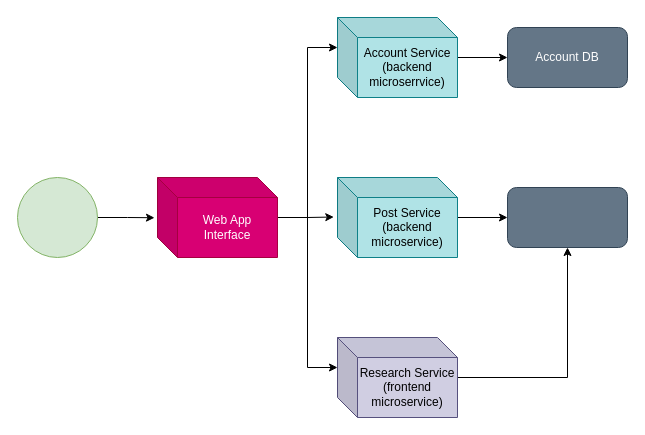
The diagram is 645 pixels wide and 435 high, and some of its shapes have lost their labels. Here are the shapes that lost their labels. From the top down, the centre of each, then its label:
At [57,217]: "Browser".
At [567,217]: "Published Images DB".
